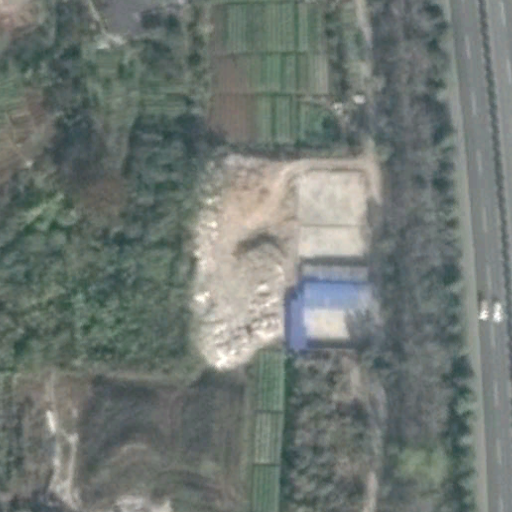msw: (189, 168, 289, 368)
